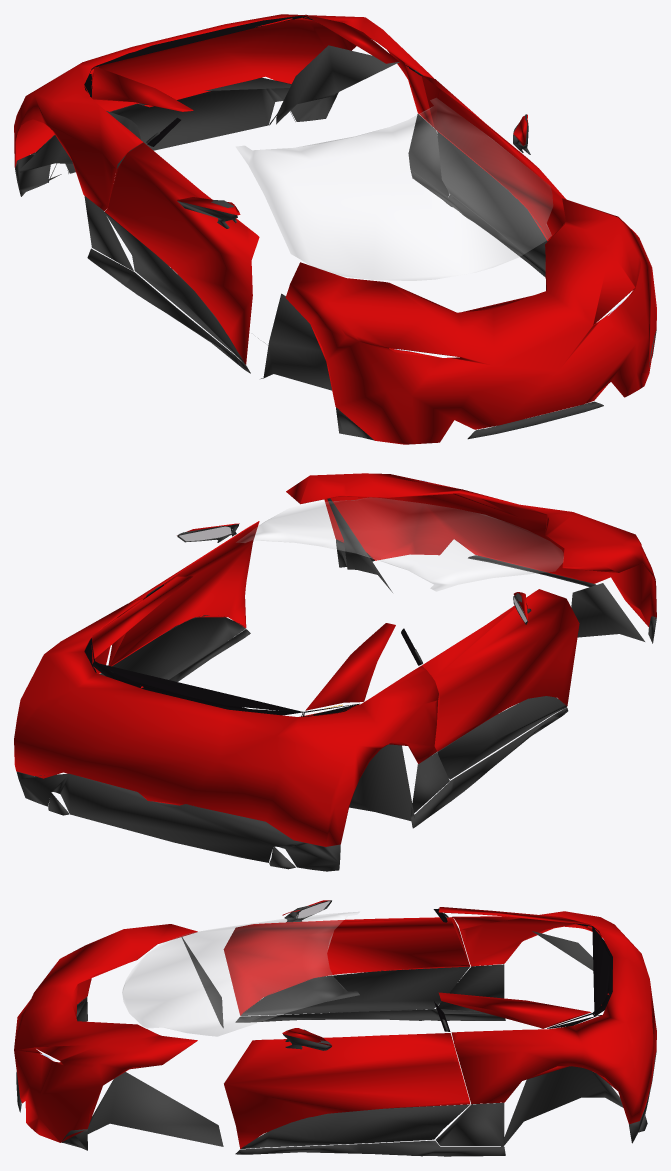
The model's file is cabrio-lod.glb.
3 views of the same model, one above another, from view 1: azimuth 30°, elevation 25°; view 2: azimuth 150°, elevation 25°; view 3: azimuth 270°, elevation 25° (orthographic). The views are drawn at different scales.
Visible parts, largest first — view 1: BodyHood, BodyWindshield, BodyRearPanelsColor1, BodyPanelsColor2, BodyDoorRColor1, BodyUnderside, BodyDoorLColor1, BodyDoorLColor2, BodyDoorRColor2, BodyTaillightsPanels; view 2: BodyRearPanelsColor1, BodyHood, BodyWindshield, BodyPanelsColor2, BodyDoorRColor1, BodyUnderside, BodyDoorLColor1, BodyDoorLColor2, BodyDoorRColor2, BodyTaillightsPanels; view 3: BodyRearPanelsColor1, BodyWindshield, BodyHood, BodyDoorLColor1, BodyDoorRColor1, BodyUnderside, BodyPanelsColor2, BodyDoorRColor2, BodyDoorLColor2, BodyTaillightsPanels, BodyDoorLMirrorColor2.
Part boxes in pixels (<box>): BodyHood: <box>285,198,656,444</box>; BodyWindshield: <box>236,98,552,280</box>; BodyRearPanelsColor1: <box>14,14,434,210</box>; BodyPanelsColor2: <box>15,77,656,440</box>; BodyDoorRColor1: <box>104,142,259,364</box>; BodyUnderside: <box>19,45,399,390</box>; BodyDoorLColor1: <box>421,75,566,240</box>; BodyDoorLColor2: <box>437,131,548,269</box>; BodyDoorRColor2: <box>104,212,245,364</box>; BodyTaillightsPanels: <box>84,15,313,97</box>; BodyRearPanelsColor1: <box>14,576,438,846</box>; BodyHood: <box>286,473,656,627</box>; BodyWindshield: <box>236,497,563,591</box>; BodyPanelsColor2: <box>16,539,656,871</box>; BodyDoorRColor1: <box>421,589,579,751</box>; BodyUnderside: <box>48,498,644,869</box>; BodyDoorLColor1: <box>108,521,259,666</box>; BodyDoorLColor2: <box>111,615,245,679</box>; BodyDoorRColor2: <box>437,696,566,779</box>; BodyTaillightsPanels: <box>84,638,359,716</box>; BodyRearPanelsColor1: <box>438,907,656,1124</box>; BodyWindshield: <box>122,912,359,1036</box>; BodyHood: <box>14,924,197,1142</box>; BodyDoorLColor1: <box>224,1033,470,1148</box>; BodyDoorRColor1: <box>223,917,470,1015</box>; BodyUnderside: <box>87,931,647,1147</box>; BodyPanelsColor2: <box>16,964,656,1156</box>; BodyDoorRColor2: <box>241,966,469,1015</box>; BodyDoorLColor2: <box>241,1104,470,1148</box>; BodyTaillightsPanels: <box>547,923,612,1028</box>; BodyDoorLMirrorColor2: <box>283,1029,331,1050</box>.
Size of the model in its own units: 2.33 by 1.05 by 4.35.
9 materials, 1 textured.
